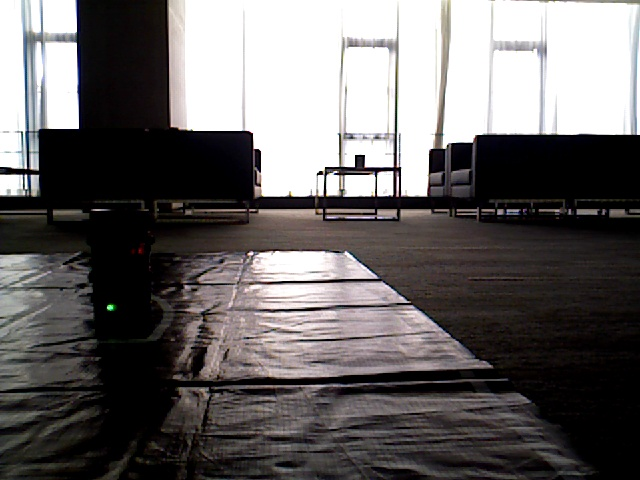green: (102, 221, 132, 315)
